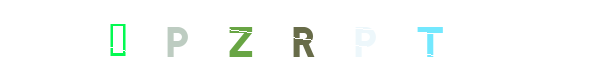3: (78, 0, 158, 80)
P: (158, 0, 238, 80), (262, 0, 342, 80)
R: (256, 0, 336, 80)
T: (332, 0, 412, 80)
Z: (202, 0, 282, 80)
